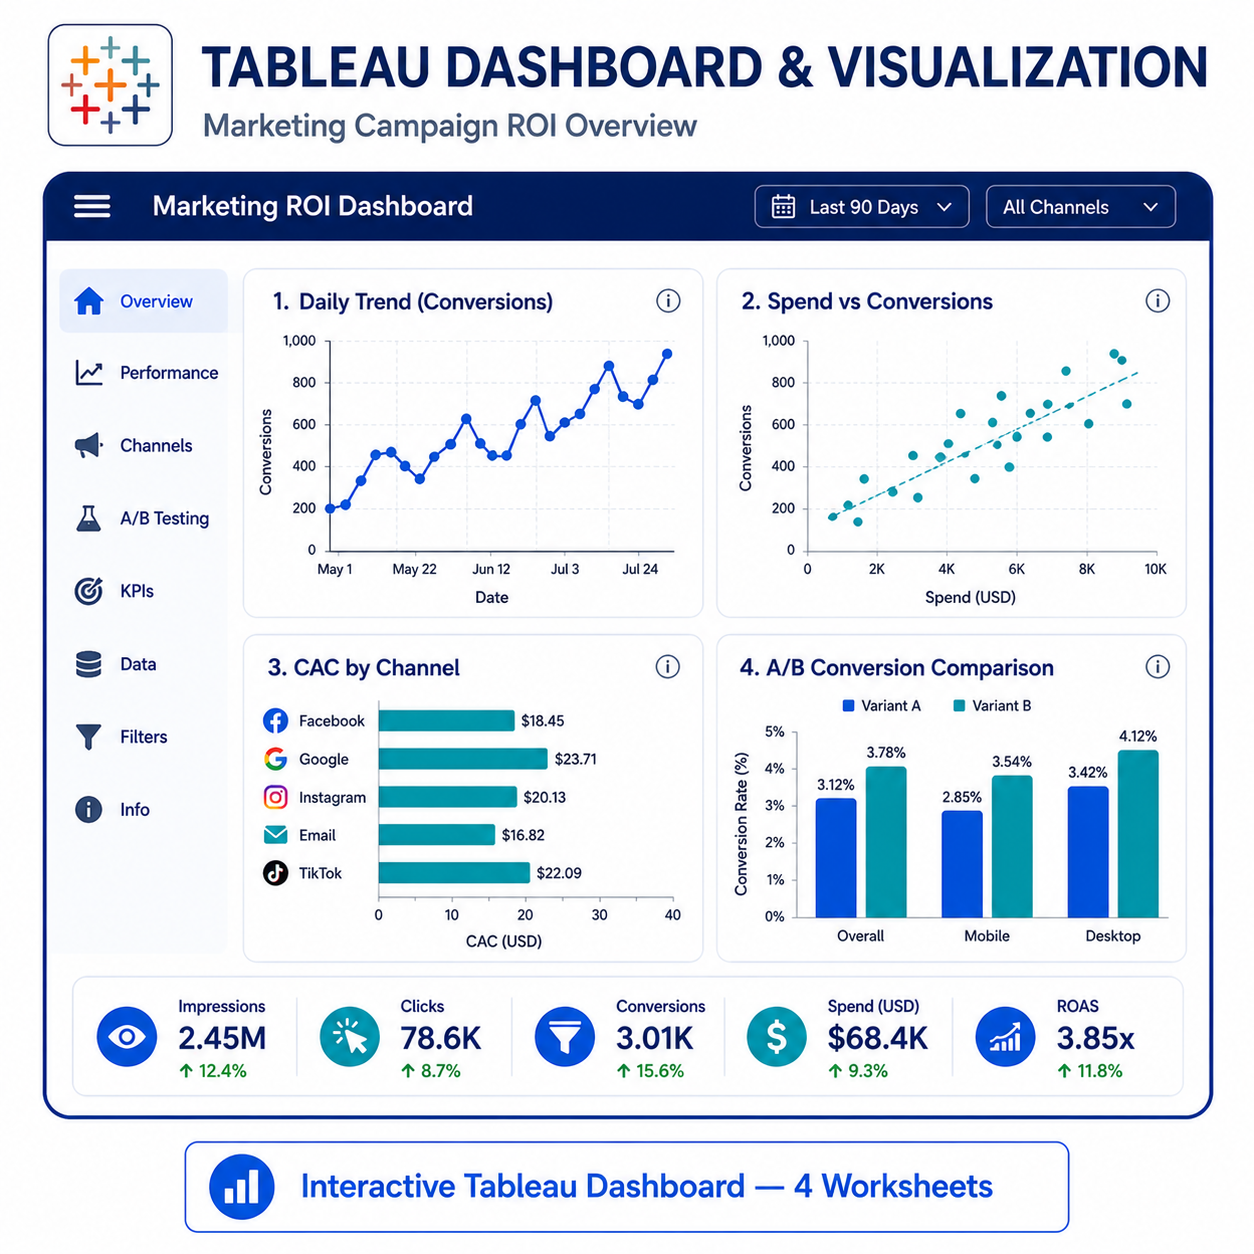

What the dashboard file says about the page in this screenshot:
{"tool":"tableau","page":{"name":"Marketing Campaign ROI Dashboard","canvas":[1500,768],"ordinal":0},"visuals":[{"type":"title","box":[8,8,1324,46]},{"type":"legend","title":"Spend vs. Conversions","param":"[federated.0xoao8y04llt2s11fhubu1ibelgj].[none:channel:nk]","box":[1333,9,158,135]},{"type":"worksheet","title":"Spend vs. Conversions","mark":"Automatic","rows":["total_conversions"],"cols":["total_spend"],"box":[8,54,650,330]},{"type":"worksheet","title":"A/B Conversion Rate Comparison","mark":"Automatic","rows":["conversion_rate"],"cols":["channel","variant"],"box":[658,54,674,330]},{"type":"legend","title":"A/B Conversion Rate Comparison","param":"[federated.0jx8mkz174eb9y12zf49w08ow174].[none:variant:nk]","box":[1333,144,158,72]},{"type":"worksheet","title":"CAC by Channel","mark":"Automatic","rows":["cac"],"cols":["channel"],"box":[8,384,742,376]},{"type":"worksheet","title":"Daily Trend","mark":"Automatic","rows":["conversions"],"cols":["date"],"box":[750,384,742,376]}]}

Visuals, with their boxes on the page's 1500x768 design canvas (x1, y1, x2, y2). These are canvas units, not pixel positions in the 1254x1254 screenshot, which may show the page scaled, cropped or inside an application window:
title: rect(8, 8, 1332, 54)
"Spend vs. Conversions" legend: rect(1333, 9, 1491, 144)
"Spend vs. Conversions" worksheet: rect(8, 54, 658, 384)
"A/B Conversion Rate Comparison" worksheet: rect(658, 54, 1332, 384)
"A/B Conversion Rate Comparison" legend: rect(1333, 144, 1491, 216)
"CAC by Channel" worksheet: rect(8, 384, 750, 760)
"Daily Trend" worksheet: rect(750, 384, 1492, 760)
